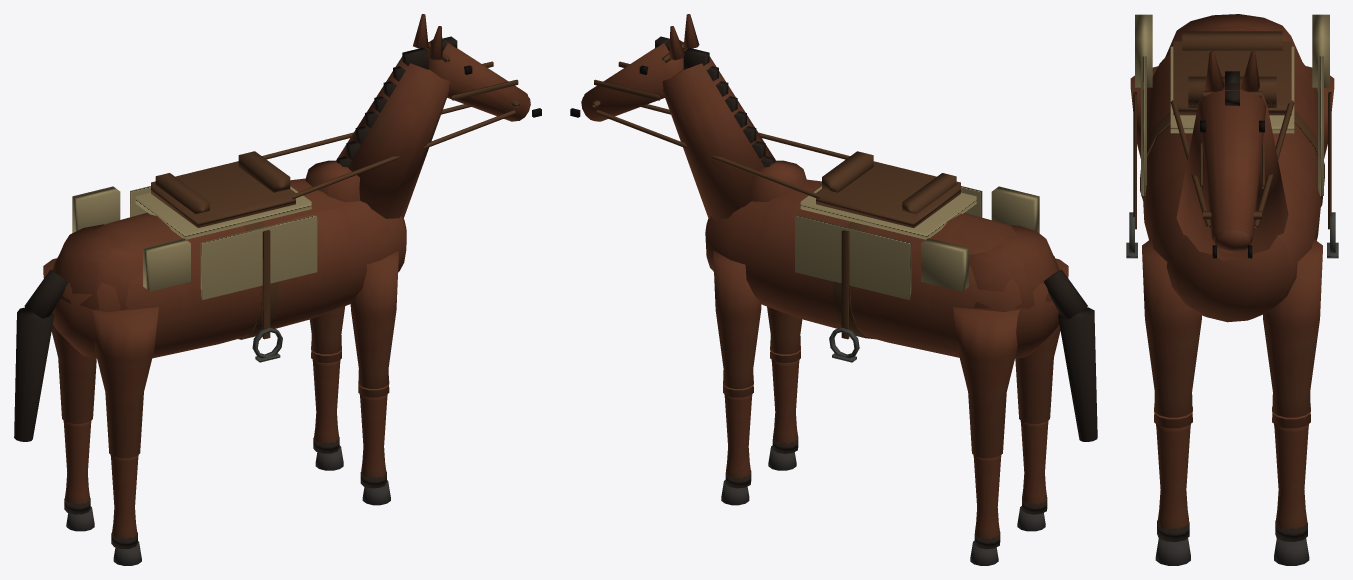
The model's file is horse.glb.
3 renders of one model, left to right at view 1: azimuth 30°, elevation 25°; view 2: azimuth 150°, elevation 25°; view 3: azimuth 270°, elevation 25°, orthographic. The views are drawn at different scales.
Visible parts, largest first — view 1: BodyMesh, NeckMesh, UpperBRMesh, HeadMesh, UpperFRMesh, TailMesh, UpperBLMesh, LowerFRMesh, LowerFLMesh, LowerBRMesh, LowerBLMesh, UpperFLMesh; view 2: BodyMesh, NeckMesh, UpperBLMesh, HeadMesh, UpperFLMesh, TailMesh, UpperBRMesh, LowerFLMesh, LowerFRMesh, LowerBLMesh, LowerBRMesh, UpperFRMesh; view 3: BodyMesh, HeadMesh, UpperFLMesh, UpperFRMesh, NeckMesh, LowerFLMesh, LowerFRMesh, UpperBLMesh, UpperBRMesh.
Boxes of the visible parts, <box> form: BodyMesh: <box>52,151,406,362</box>; NeckMesh: <box>336,47,449,218</box>; UpperBRMesh: <box>92,307,158,458</box>; HeadMesh: <box>262,14,541,199</box>; UpperFRMesh: <box>350,251,398,397</box>; TailMesh: <box>14,269,68,441</box>; UpperBLMesh: <box>43,258,96,423</box>; LowerFRMesh: <box>358,381,390,505</box>; LowerFLMesh: <box>311,346,343,470</box>; LowerBRMesh: <box>110,455,141,565</box>; LowerBLMesh: <box>63,420,94,531</box>; UpperFLMesh: <box>310,306,344,362</box>; BodyMesh: <box>705,151,1059,362</box>; NeckMesh: <box>662,48,775,220</box>; UpperBLMesh: <box>953,307,1019,458</box>; HeadMesh: <box>570,14,849,199</box>; UpperFLMesh: <box>713,251,761,397</box>; TailMesh: <box>1044,269,1097,441</box>; UpperBRMesh: <box>1015,258,1068,423</box>; LowerFLMesh: <box>721,381,753,505</box>; LowerFRMesh: <box>768,346,800,470</box>; LowerBLMesh: <box>970,455,1001,565</box>; LowerBRMesh: <box>1017,420,1048,531</box>; UpperFRMesh: <box>767,306,802,362</box>; BodyMesh: <box>1126,14,1338,322</box>; HeadMesh: <box>1170,51,1294,258</box>; UpperFLMesh: <box>1263,239,1322,428</box>; UpperFRMesh: <box>1142,239,1201,428</box>; NeckMesh: <box>1176,71,1288,260</box>; LowerFLMesh: <box>1272,407,1310,565</box>; LowerFRMesh: <box>1154,407,1192,565</box>; UpperBLMesh: <box>1306,66,1334,158</box>; UpperBRMesh: <box>1130,66,1157,158</box>.
Bounding box in the file's own units: 2.54 × 2.07 × 0.72.
Materials: 7 (1 with a texture image).
